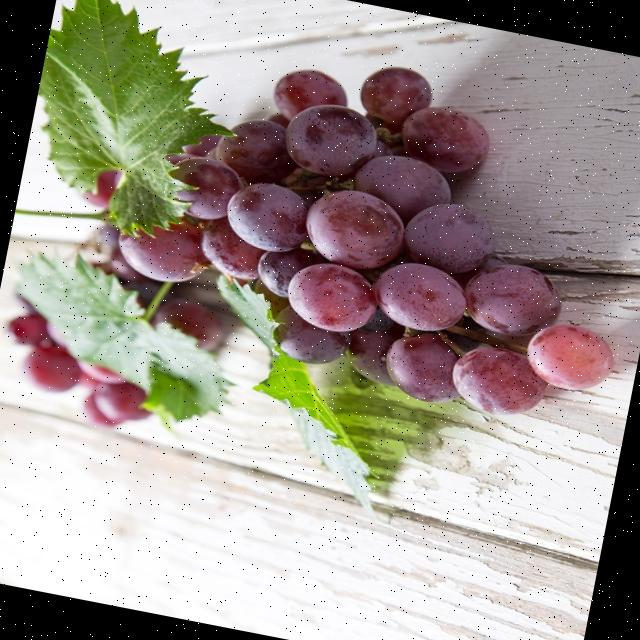grape: (18, 0, 611, 503), (120, 68, 611, 415)
